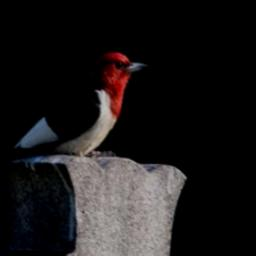Woodpecker: (0, 48, 157, 180)
